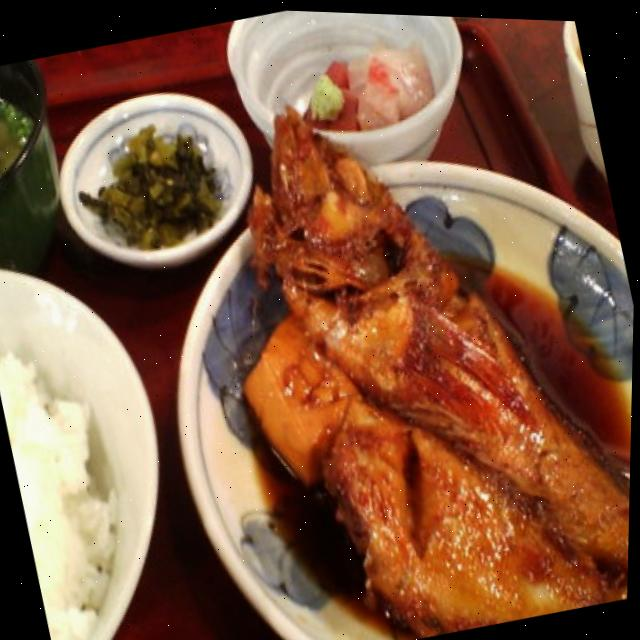熟制海鲜: (167, 9, 640, 640)
